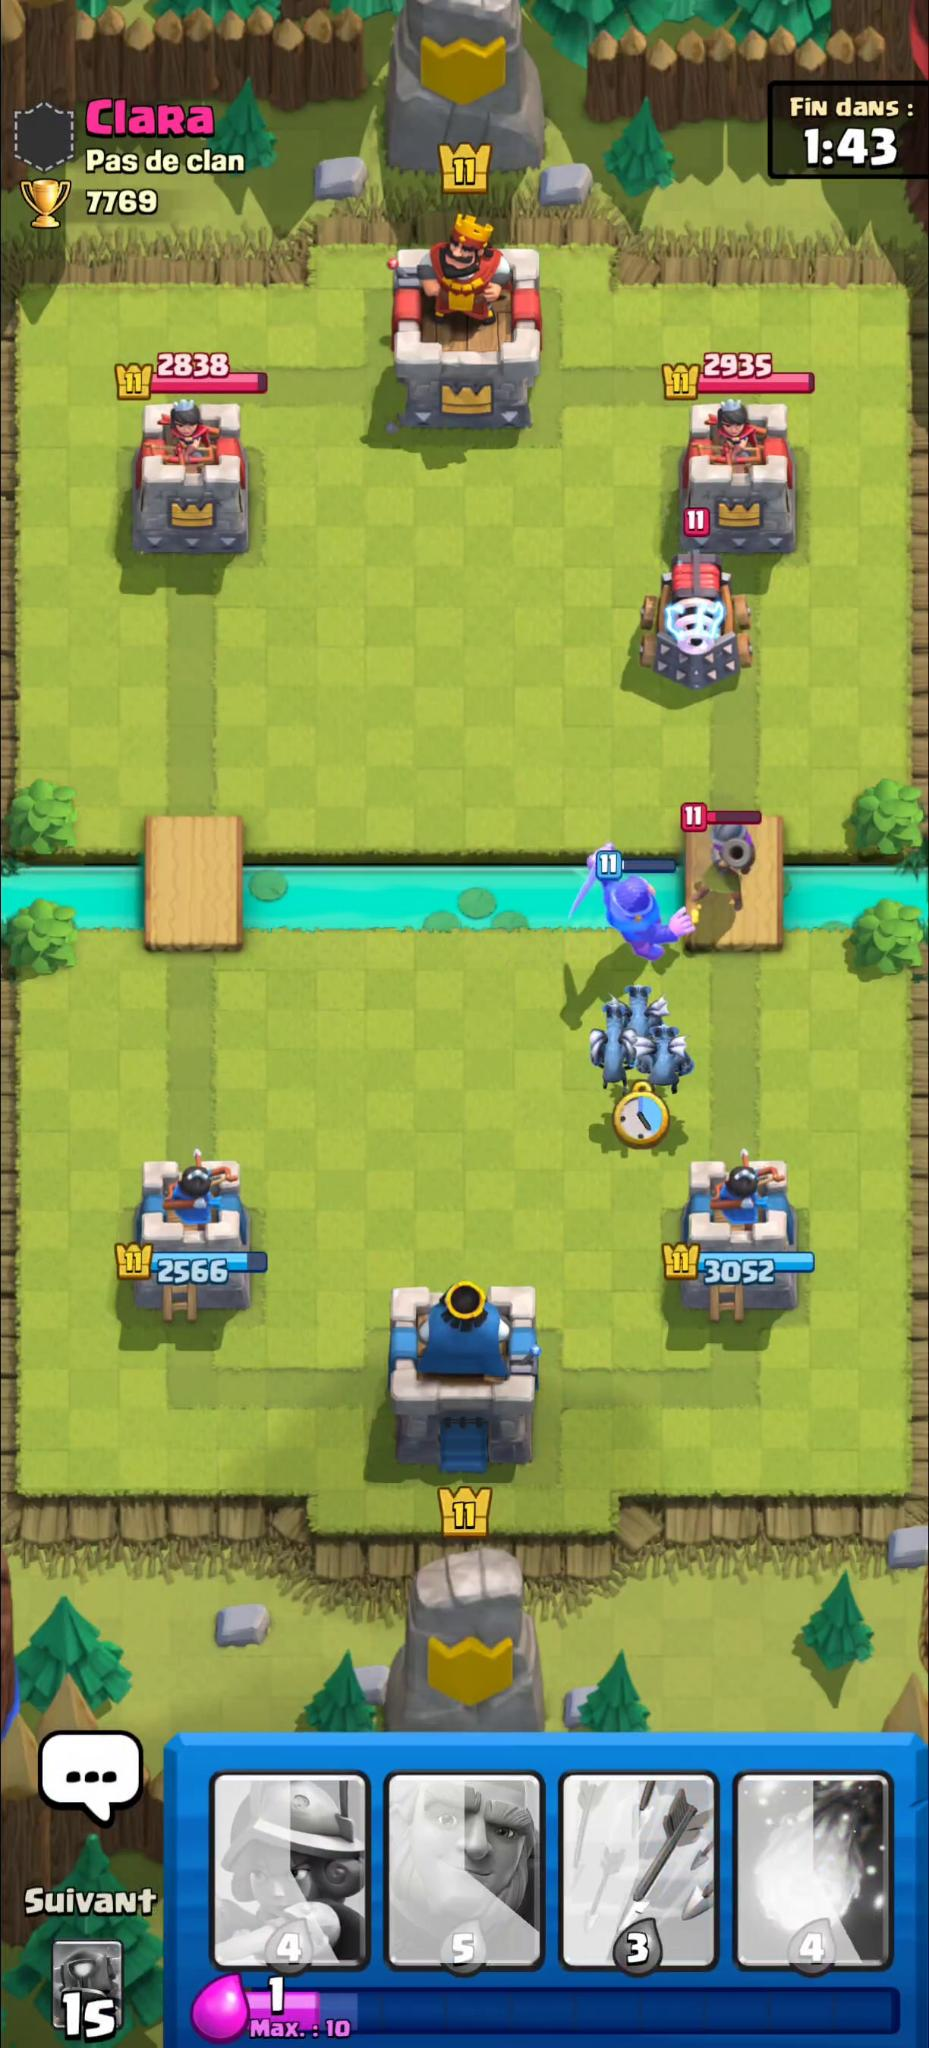chevalier: (574, 848, 696, 963)
gargouille: (639, 1021, 695, 1098), (591, 1003, 639, 1088), (610, 986, 668, 1042)
mousquetaire: (698, 823, 751, 917)
zappy: (638, 551, 759, 690)
